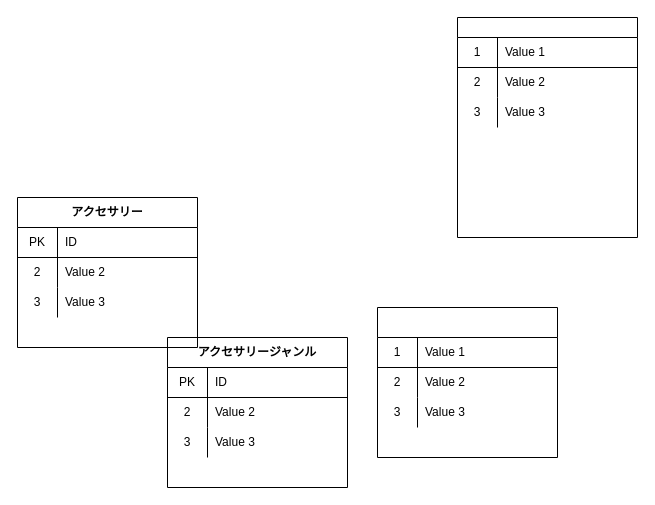
Image size: 655x505. Some labels were removed from this diagram. Each missing label, with the box of its shape:
Table: (376, 306, 558, 458)
作家/ショップ: (456, 16, 638, 238)
